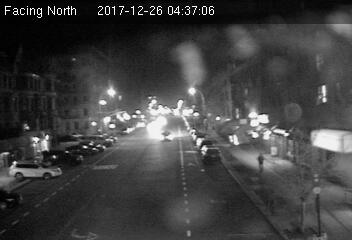car: (201, 146, 223, 163), (157, 131, 174, 142)
pedestrian: (254, 151, 265, 175)
